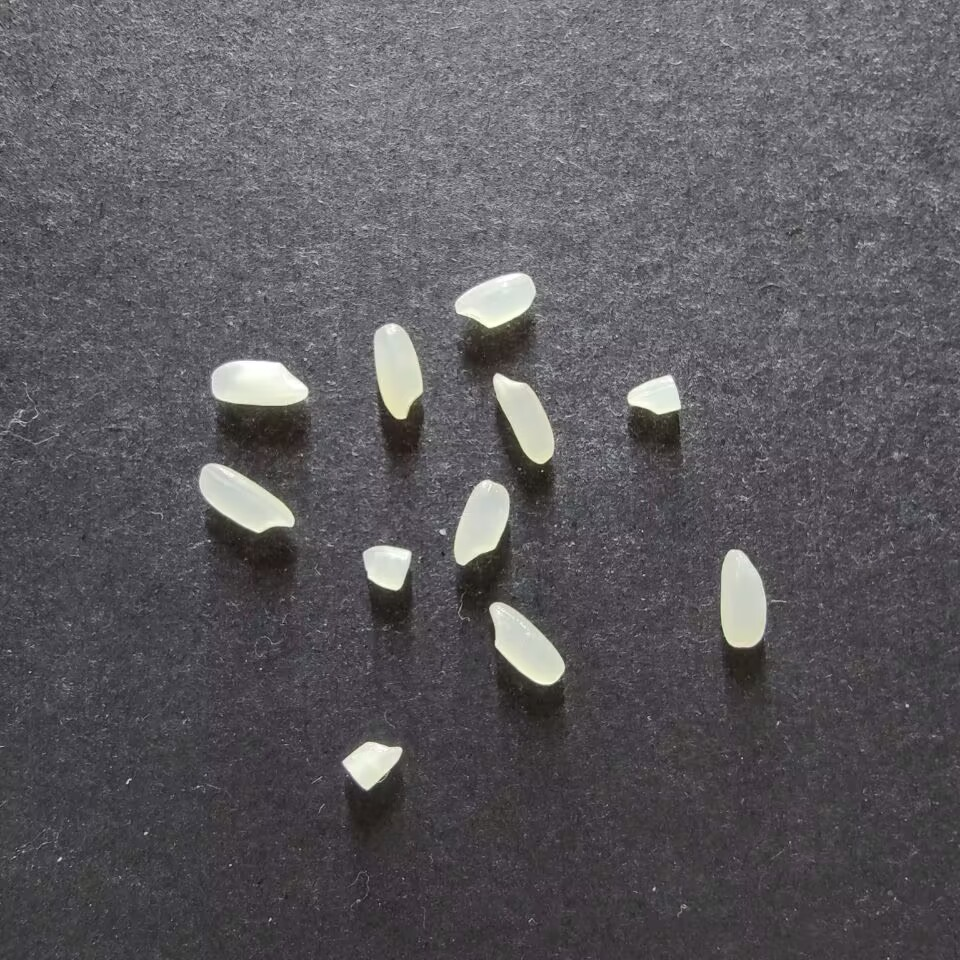broken: (340, 740, 403, 791), (362, 545, 411, 591), (626, 375, 682, 415)
rice: (198, 462, 295, 533), (488, 600, 566, 686), (492, 373, 555, 465), (452, 478, 510, 566), (373, 322, 423, 419), (719, 548, 767, 648), (453, 272, 536, 328), (210, 360, 309, 406)
